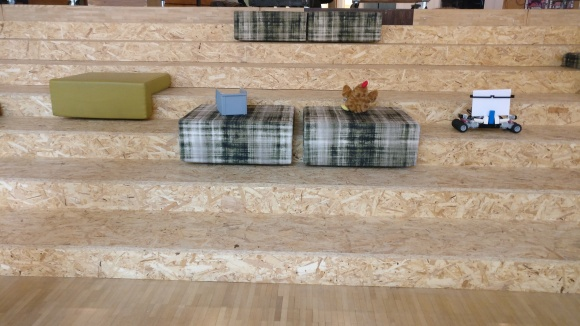car: (452, 88, 523, 135)
chicken: (339, 79, 379, 114)
tray: (213, 87, 249, 117)
